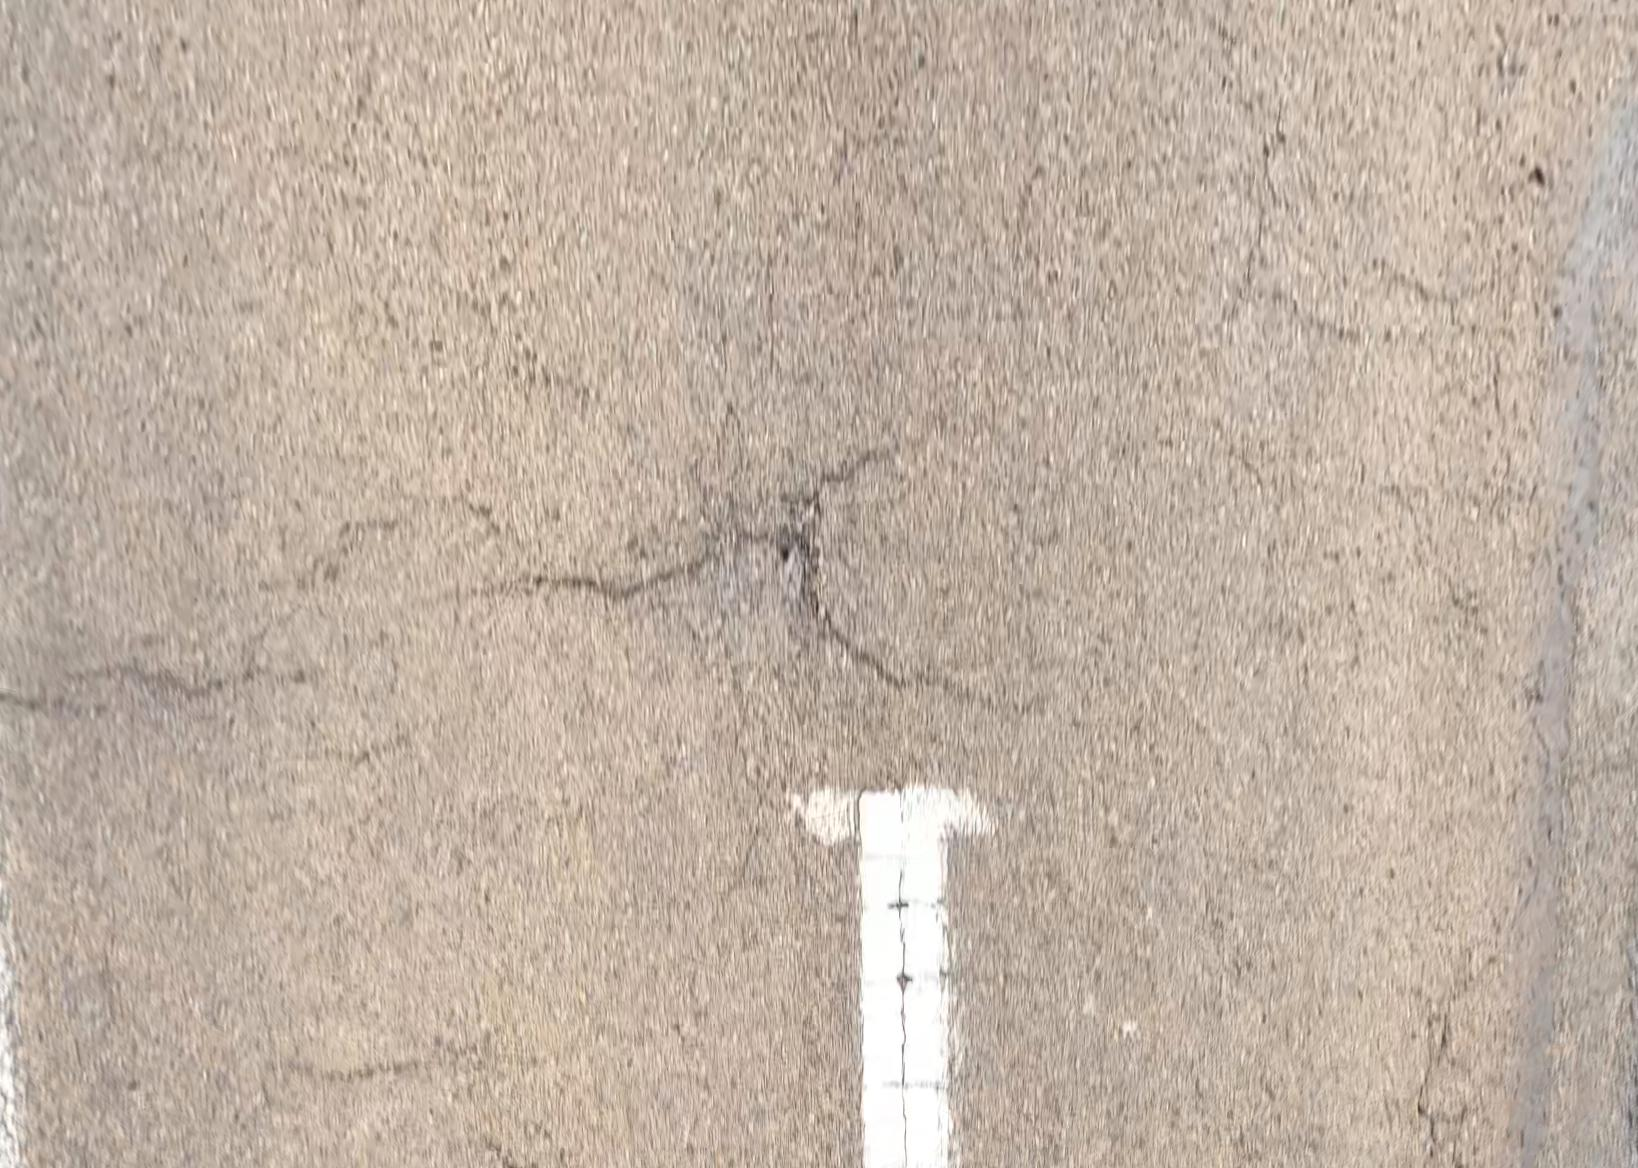pothole: (777, 499, 820, 609)
